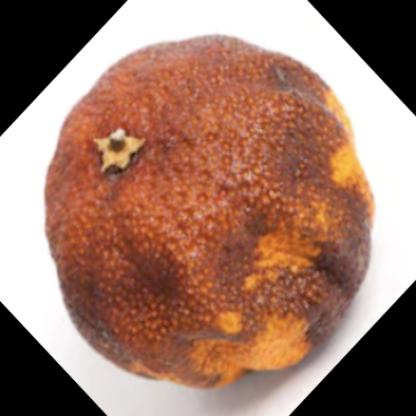rotten: (48, 36, 375, 391)
